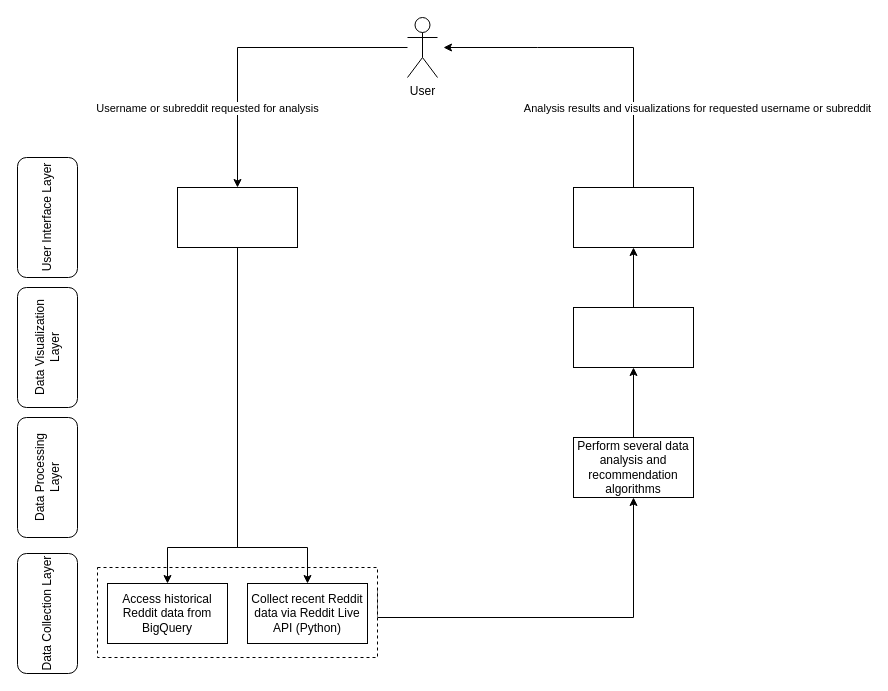
This 888x691 diagram has some shape labels left out. The centre of each missing label's shape, as x and y in pixels:
"Angular UI with input field" goes at (237,217).
"Display visualizations in user interface" goes at (633,217).
"Generate visualizations with libraries like ChartJS" goes at (633,337).
